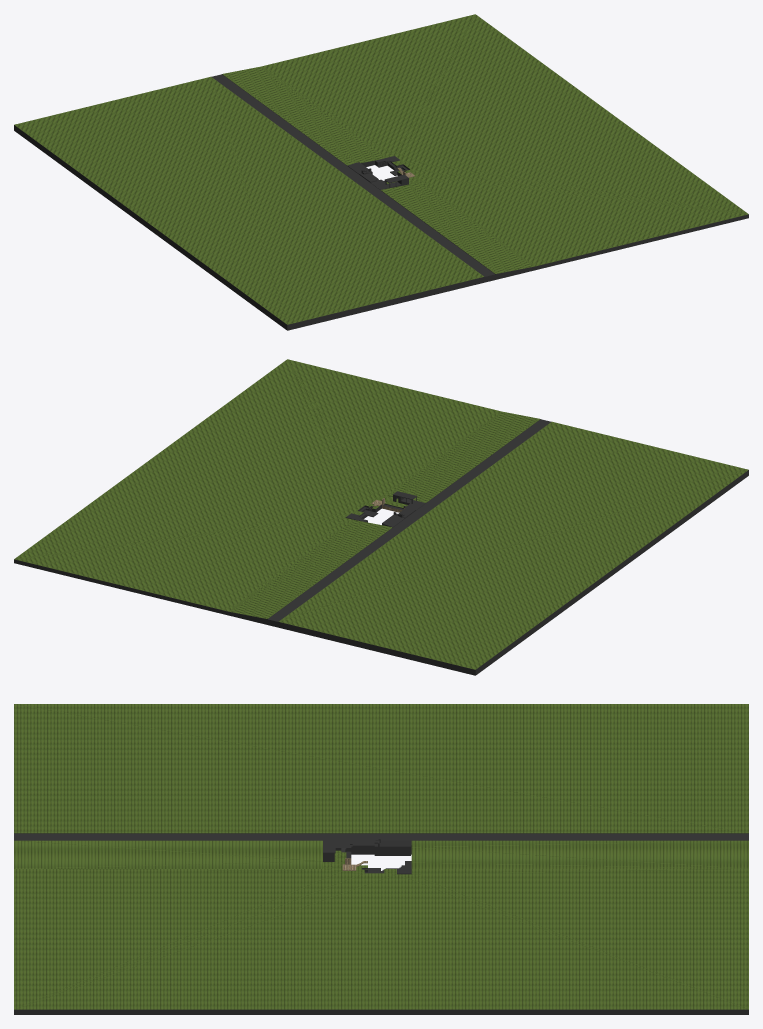
File: Umgebung.obj
3 renders of one model, top to bottom at view 1: azimuth 30°, elevation 25°; view 2: azimuth 150°, elevation 25°; view 3: azimuth 270°, elevation 25°, orthographic. The views are drawn at different scales.
Visible parts, largest first — view 1: Volumenkörper1; view 2: Volumenkörper1; view 3: Volumenkörper1.
Part boxes in pixels (x1,y1,x2,y2): Volumenkörper1: (14, 14, 748, 330); Volumenkörper1: (14, 359, 748, 675); Volumenkörper1: (14, 704, 748, 1014).
Size of the model in its own units: 212 by 4.8 by 218.
3 materials, 2 textured.
